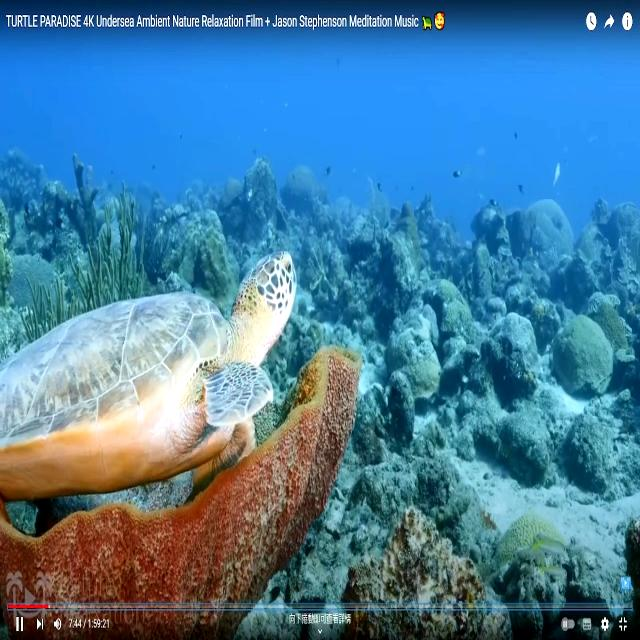Sea turtle: (0, 245, 300, 499)
